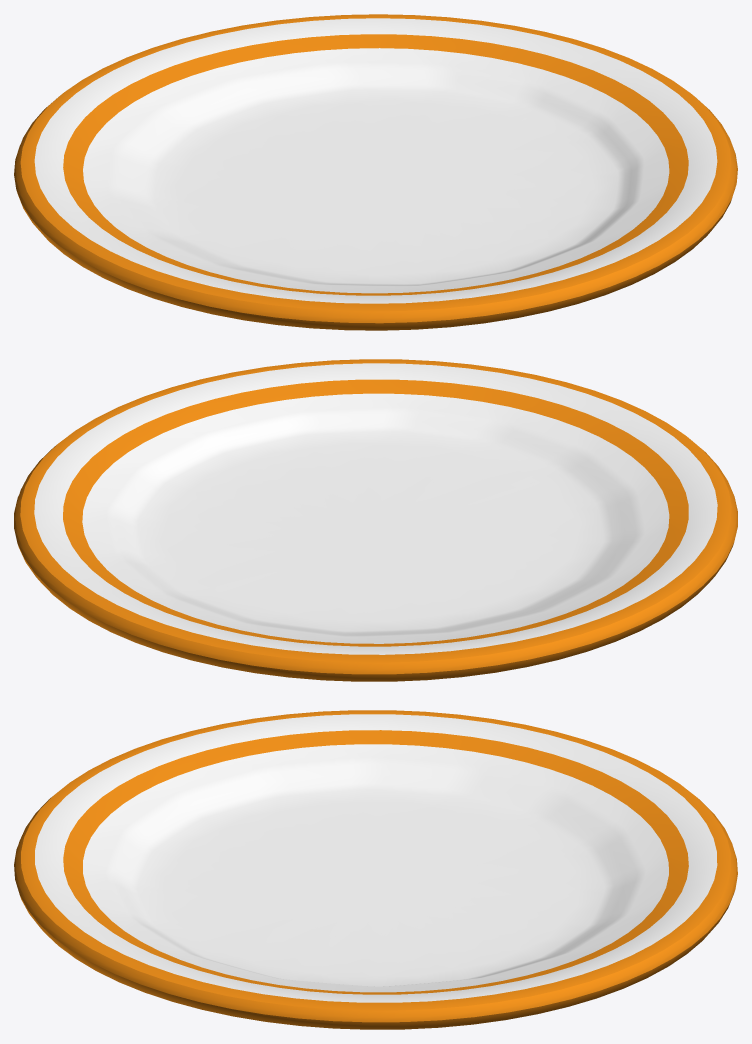
File: OrangePlate.fbx
3 views of the same model, one above another, from view 1: azimuth 30°, elevation 25°; view 2: azimuth 150°, elevation 25°; view 3: azimuth 270°, elevation 25° (orthographic).
Visible parts, largest first — view 1: Plate3; view 2: Plate3; view 3: Plate3.
Part boxes in pixels (x1=…): Plate3: x1=14, y1=14, x2=737, y2=330; Plate3: x1=14, y1=359, x2=737, y2=681; Plate3: x1=14, y1=710, x2=737, y2=1029.
Size of the model in its own units: 24.29 by 2.21 by 24.29.
1 material, 1 textured.
